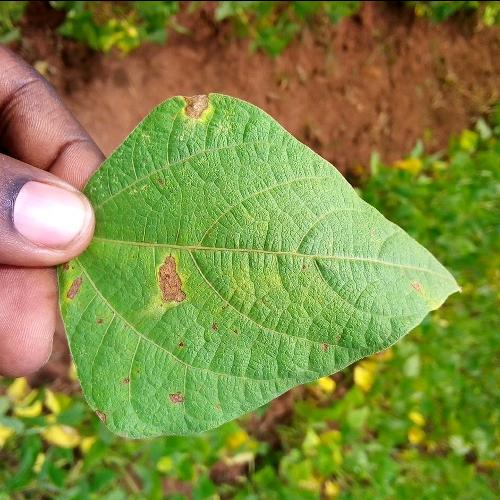hawar: (121, 232, 214, 324), (136, 70, 240, 144), (40, 254, 104, 335)
